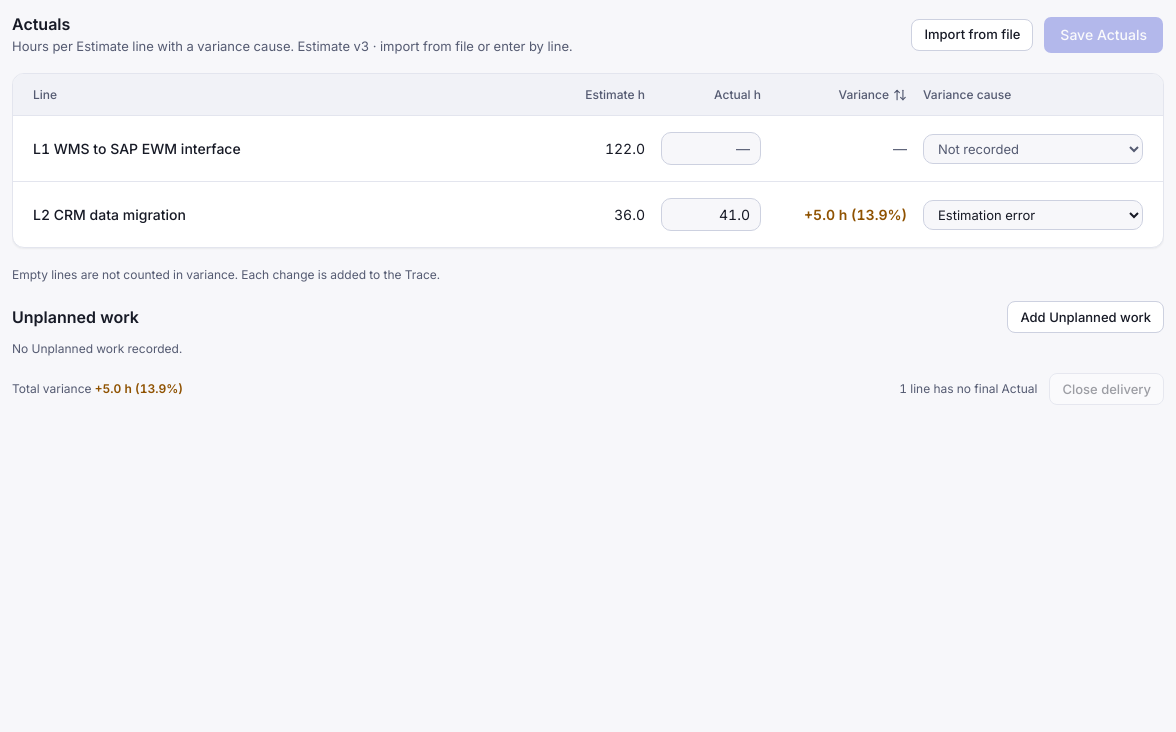
Test: ActualsSection › Save Actuals asks for a reason once when a line is corrected, then saves both
In the field named "Actual hours, L1": [711, 148] box [661,132,761,165], type "120"
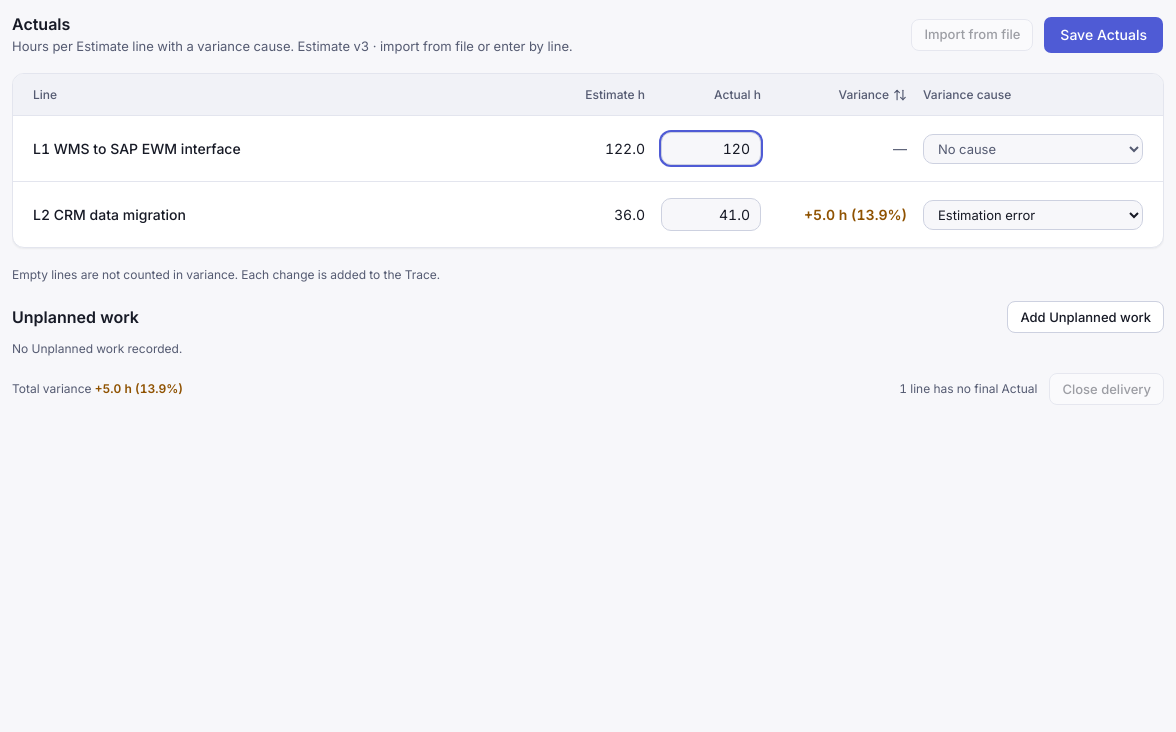
Replace the text in the field named "Actual hours, L2" with "40": [711, 214] box [661,198,761,231]
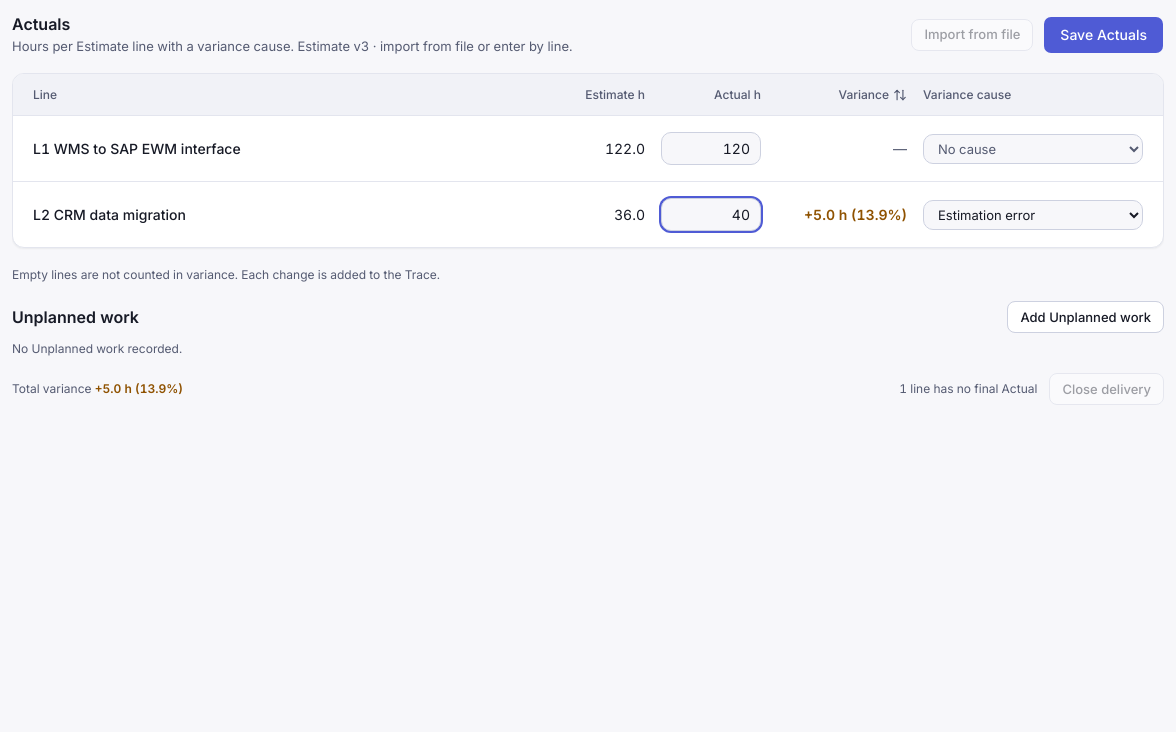
Click the button "Save Actuals": [1104, 34] box [1043,16,1164,54]
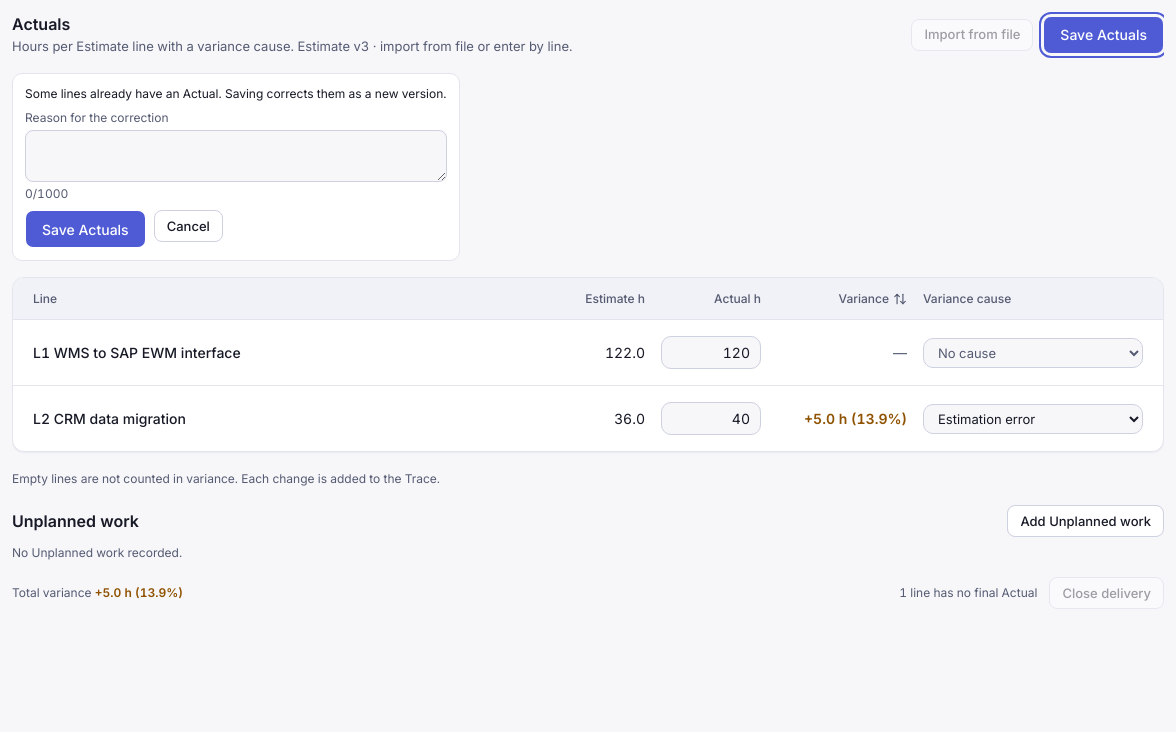
In the text box labelled "Reason for the correction": [236, 156] box [25,130,447,182], type "Timesheets closed"
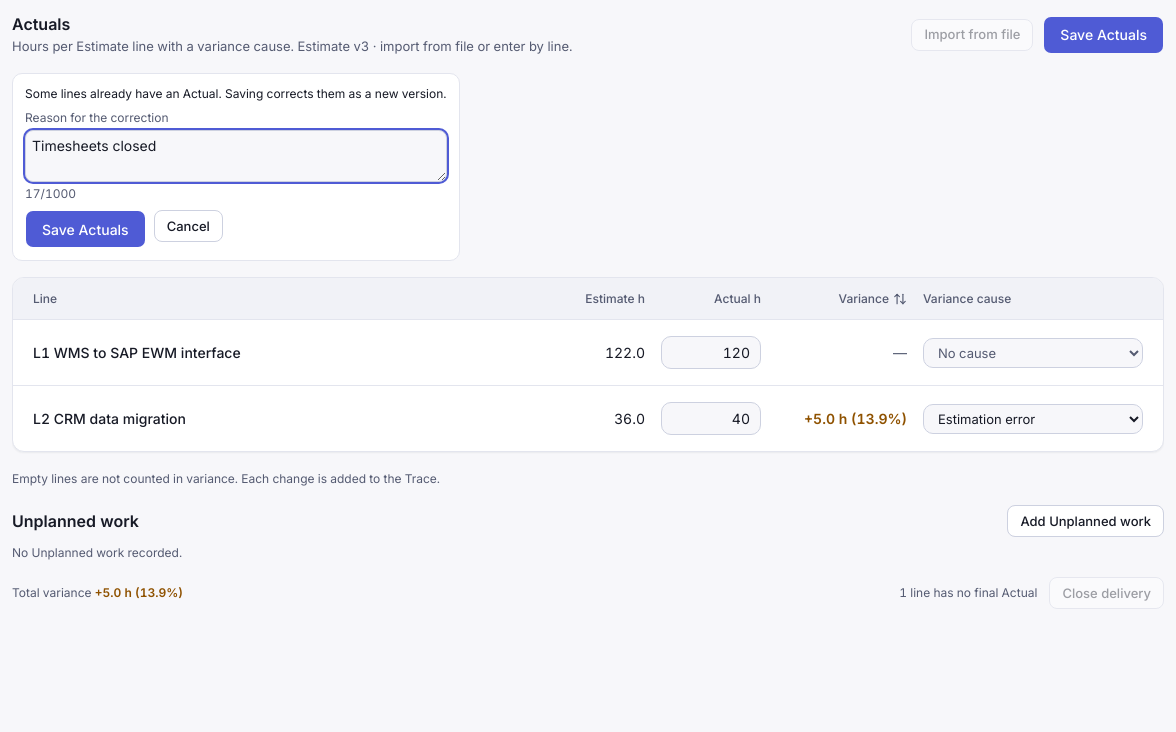
Click the button "Save Actuals" below "17/1000": [85, 229] box [25,210,146,248]
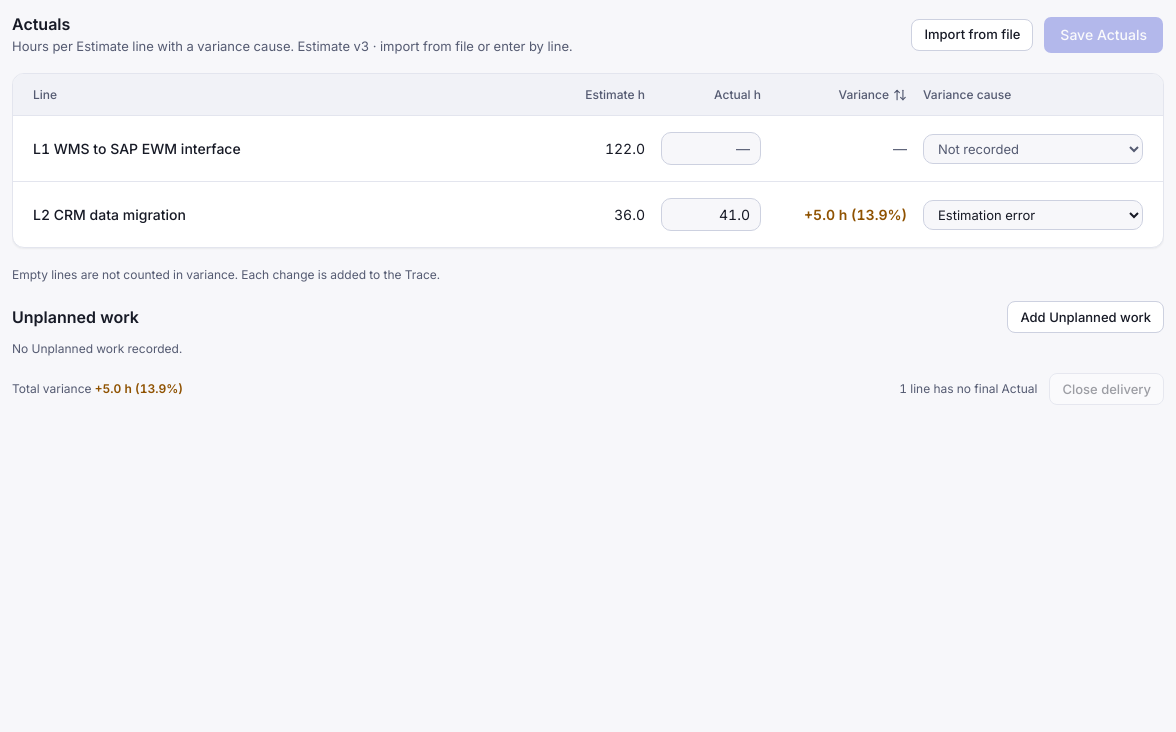
expect the label "Reason for the correction" is gone: met
